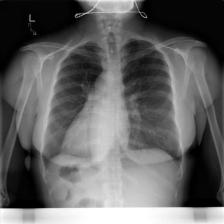normal: (37, 36, 186, 175)
